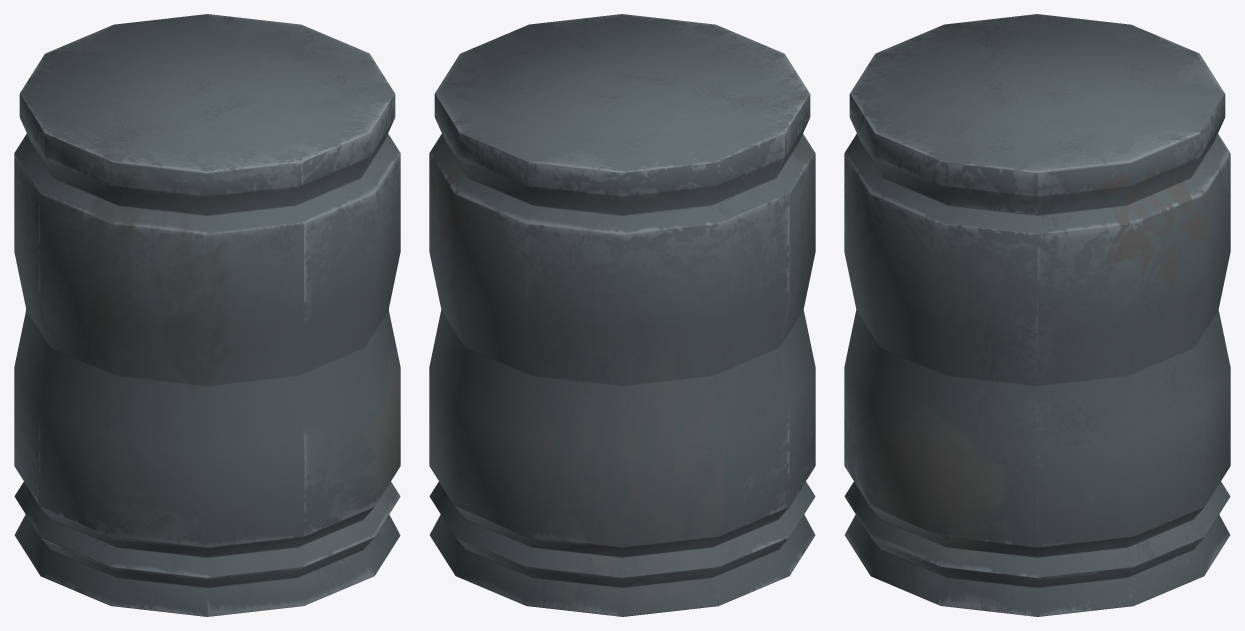
Rendered from can.gltf.
3 views of the same model, side by side, from view 1: azimuth 30°, elevation 25°; view 2: azimuth 150°, elevation 25°; view 3: azimuth 270°, elevation 25° (orthographic).
Parts seen in each view (by area): view 1: can; view 2: can; view 3: can.
Part boxes in pixels (<box>): can: <box>14,14,400,616</box>; can: <box>429,14,815,616</box>; can: <box>844,14,1230,616</box>.
Bounding box in the file's own units: 0.2151 × 0.2716 × 0.2151.
Materials: 1 (1 with a texture image).
